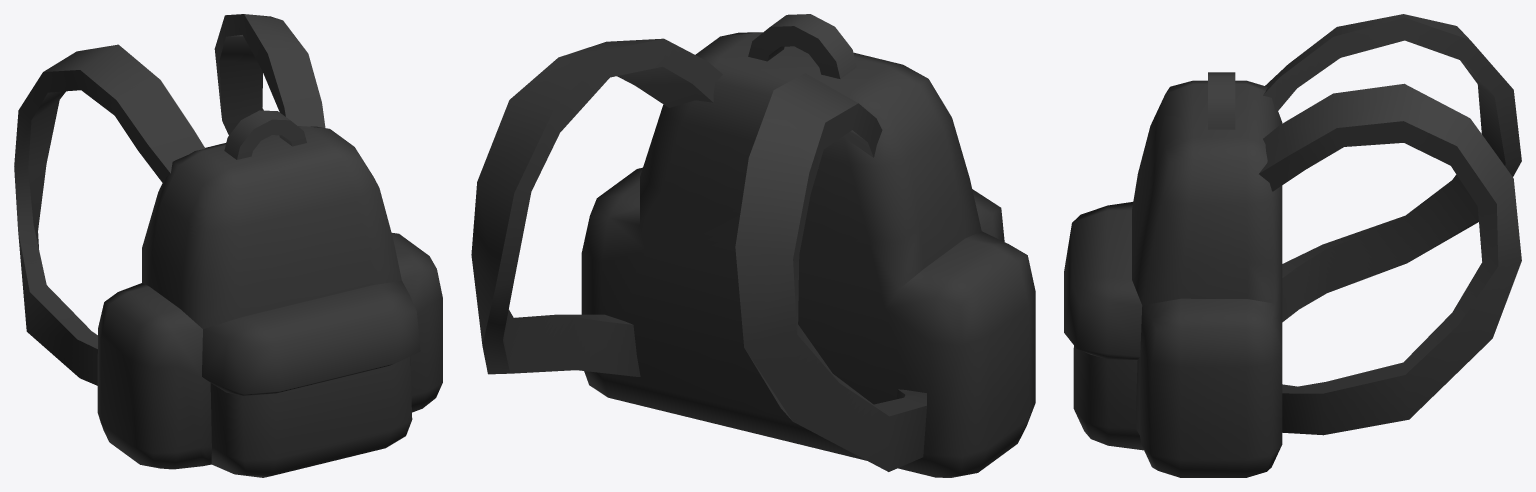
The model's file is Bagpack_1.fbx.
The picture shows the model from 3 angles, left to right: view 1: azimuth 30°, elevation 25°; view 2: azimuth 150°, elevation 25°; view 3: azimuth 270°, elevation 25°; orthographic projection. The views are drawn at different scales.
Visible parts, largest first — view 1: Bagpack_1; view 2: Bagpack_1; view 3: Bagpack_1.
Boxes of the visible parts, x1,y1,x2,y2 form: Bagpack_1: [14, 14, 442, 477]; Bagpack_1: [471, 14, 1035, 477]; Bagpack_1: [1064, 14, 1521, 477].
Size of the model in its own units: 46.01 by 47.79 by 55.04.
